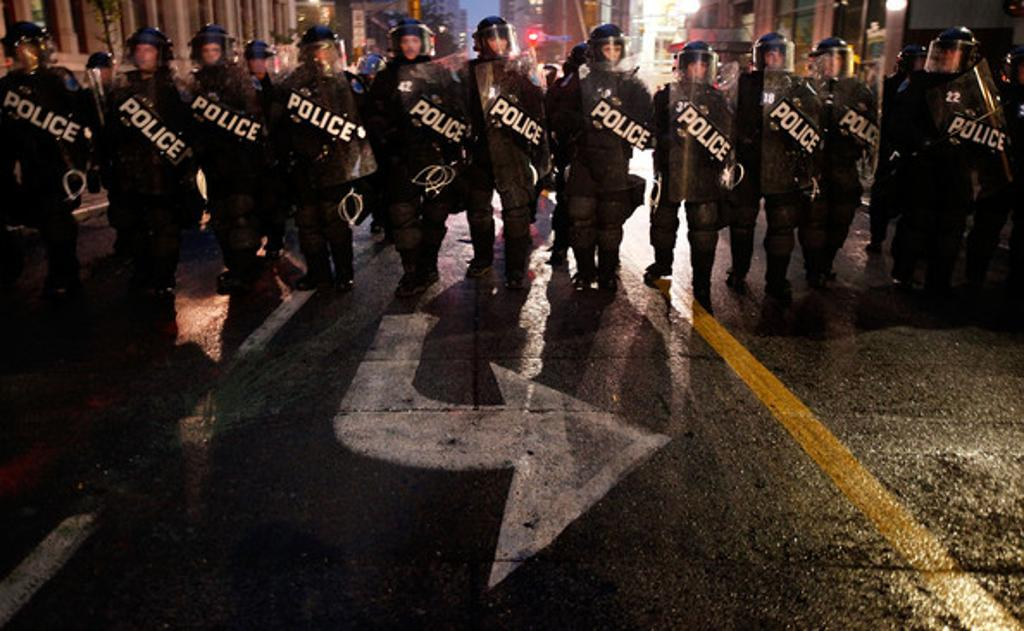face: (938, 45, 964, 73), (399, 32, 422, 61), (136, 42, 158, 72), (307, 44, 332, 70), (16, 42, 42, 66), (603, 42, 624, 68), (911, 56, 933, 79), (686, 59, 708, 81), (489, 35, 509, 59), (90, 66, 112, 87), (202, 43, 224, 64), (764, 48, 785, 70), (250, 55, 269, 77), (825, 55, 843, 78), (1014, 59, 1024, 86)
